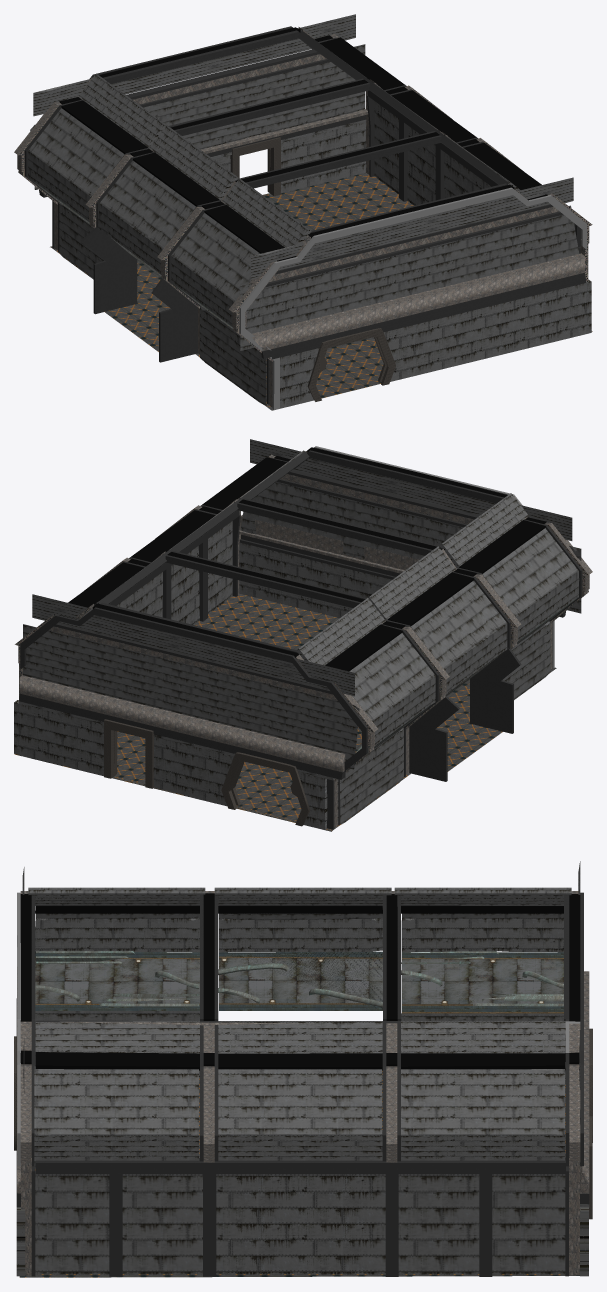
Rendered from hangar.obj.
3 renders of one model, top to bottom at view 1: azimuth 30°, elevation 25°; view 2: azimuth 150°, elevation 25°; view 3: azimuth 270°, elevation 25°, orthographic. The views are drawn at different scales.
Parts seen in each view (by area): view 1: polySurface2160, polySurface2419, pasted__polySurface2548, pasted__pasted__polySurface2502, pasted__polySurface2502, pasted__pasted__pasted__polySur1, pasted__polySurface2725, pasted__polySurface2654, pasted__pasted__polySurface2654, pasted__pasted__polySurface2725, pasted__pasted__pasted__polySur0; view 2: polySurface2160, pasted__polySurface2548, pasted__polySurface2502, polySurface2419, pasted__pasted__polySurface2502, pasted__pasted__polySurface2725, pasted__polySurface2725, pasted__pasted__polySurface2654, pasted__polySurface2654, pasted__pasted__pasted__polySur1; view 3: polySurface2160, pasted__polySurface2725, pasted__polySurface2726, pasted__polySurface2654, pasted__pasted__polySurface2654, pasted__polySurface2548, pasted__pasted__pasted__polySur1, pasted__pasted__polySurface2725, pasted__pasted__pasted__polySur0, pasted__pasted__pasted__pasted__, polySurface2419.
Part boxes in pixels (x1,y1,x2,y2): polySurface2160: (14, 26, 592, 410); polySurface2419: (383, 279, 591, 381); pasted__polySurface2548: (50, 172, 592, 410); pasted__pasted__polySurface2502: (251, 177, 573, 279); pasted__polySurface2502: (33, 14, 355, 116); pasted__pasted__pasted__polySur1: (200, 306, 266, 405); pasted__polySurface2725: (374, 101, 435, 205); pasted__polySurface2654: (149, 125, 238, 200); pasted__pasted__polySurface2654: (222, 178, 311, 247); pasted__pasted__polySurface2725: (59, 203, 104, 279); pasted__pasted__pasted__polySur0: (54, 91, 369, 407); polySurface2160: (14, 446, 592, 829); pasted__polySurface2548: (14, 593, 556, 831); pasted__polySurface2502: (32, 594, 354, 696); polySurface2419: (239, 542, 391, 617); pasted__pasted__polySurface2502: (250, 439, 572, 540); pasted__pasted__polySurface2725: (337, 727, 403, 825); pasted__polySurface2725: (171, 521, 232, 624); pasted__pasted__polySurface2654: (439, 493, 528, 568); pasted__polySurface2654: (368, 546, 455, 620); pasted__pasted__pasted__polySur1: (502, 621, 550, 699); polySurface2160: (14, 887, 592, 1276); pasted__polySurface2725: (35, 1172, 565, 1274); pasted__polySurface2726: (218, 1134, 382, 1160); pasted__polySurface2654: (214, 887, 391, 905); pasted__pasted__polySurface2654: (28, 887, 205, 905); pasted__polySurface2548: (19, 1070, 579, 1277); pasted__pasted__pasted__polySur1: (35, 1011, 199, 1077); pasted__pasted__polySurface2725: (401, 1013, 565, 1078); pasted__pasted__pasted__polySur0: (569, 1158, 579, 1275); pasted__pasted__pasted__pasted__: (21, 1158, 31, 1275); polySurface2419: (16, 1207, 25, 1276).
Bounding box in the file's own units: 82.07 × 35.76 × 86.66.
